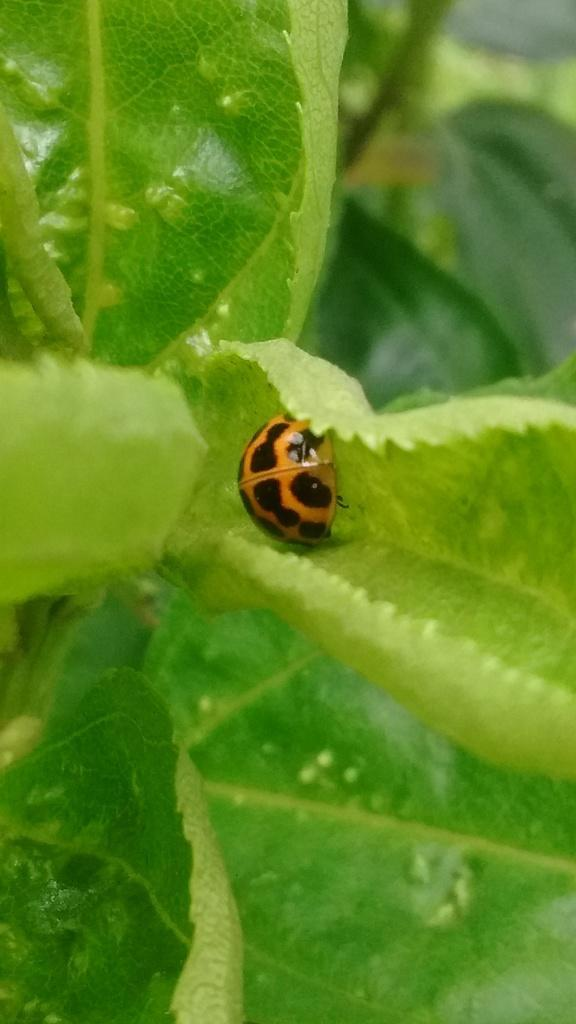ladybug: (237, 409, 351, 551)
